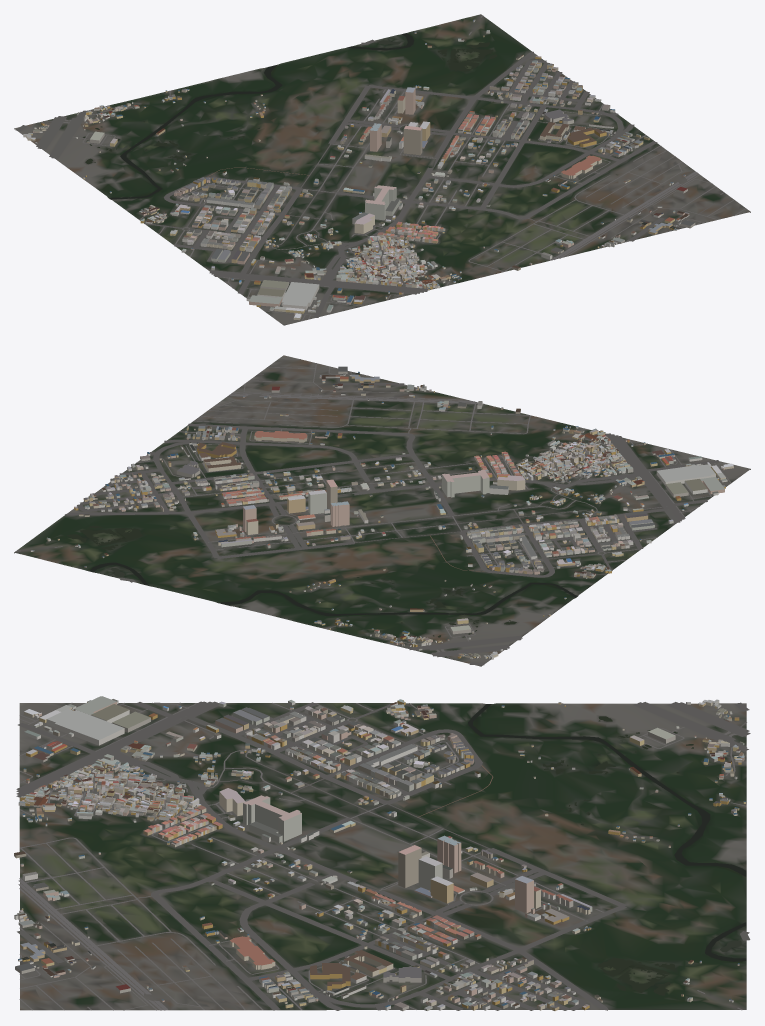
3 renders of one model, top to bottom at view 1: azimuth 30°, elevation 25°; view 2: azimuth 150°, elevation 25°; view 3: azimuth 270°, elevation 25°, orthographic. The views are drawn at different scales.
Parts seen in each view (by area): view 1: ground, buildings, roads, water; view 2: ground, buildings, roads, water; view 3: ground, buildings, roads, water.
Part boxes in pixels (x1,y1,x2,y2): ground: [14, 14, 750, 325]; buildings: [23, 19, 695, 320]; roads: [15, 15, 746, 321]; water: [83, 33, 496, 199]; ground: [14, 355, 750, 666]; buildings: [30, 366, 733, 659]; roads: [15, 358, 731, 665]; water: [67, 525, 577, 637]; ground: [19, 703, 746, 1010]; buildings: [14, 696, 745, 1011]; roads: [16, 701, 750, 1010]; water: [468, 704, 746, 995].
Bounding box in the file's own units: 1418 × 76.05 × 1420.
